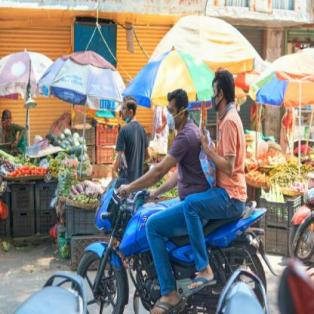Motocicleta: (82, 167, 265, 303)
